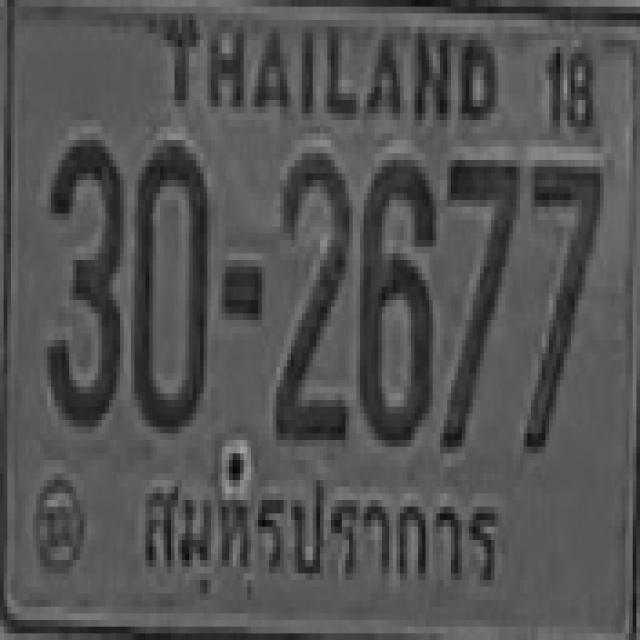0: (131, 140, 207, 427)
2: (276, 150, 349, 437)
3: (44, 133, 120, 420)
6: (356, 153, 433, 440)
7: (522, 157, 602, 450), (442, 153, 518, 447)
SamutPrakan: (136, 454, 509, 605)
